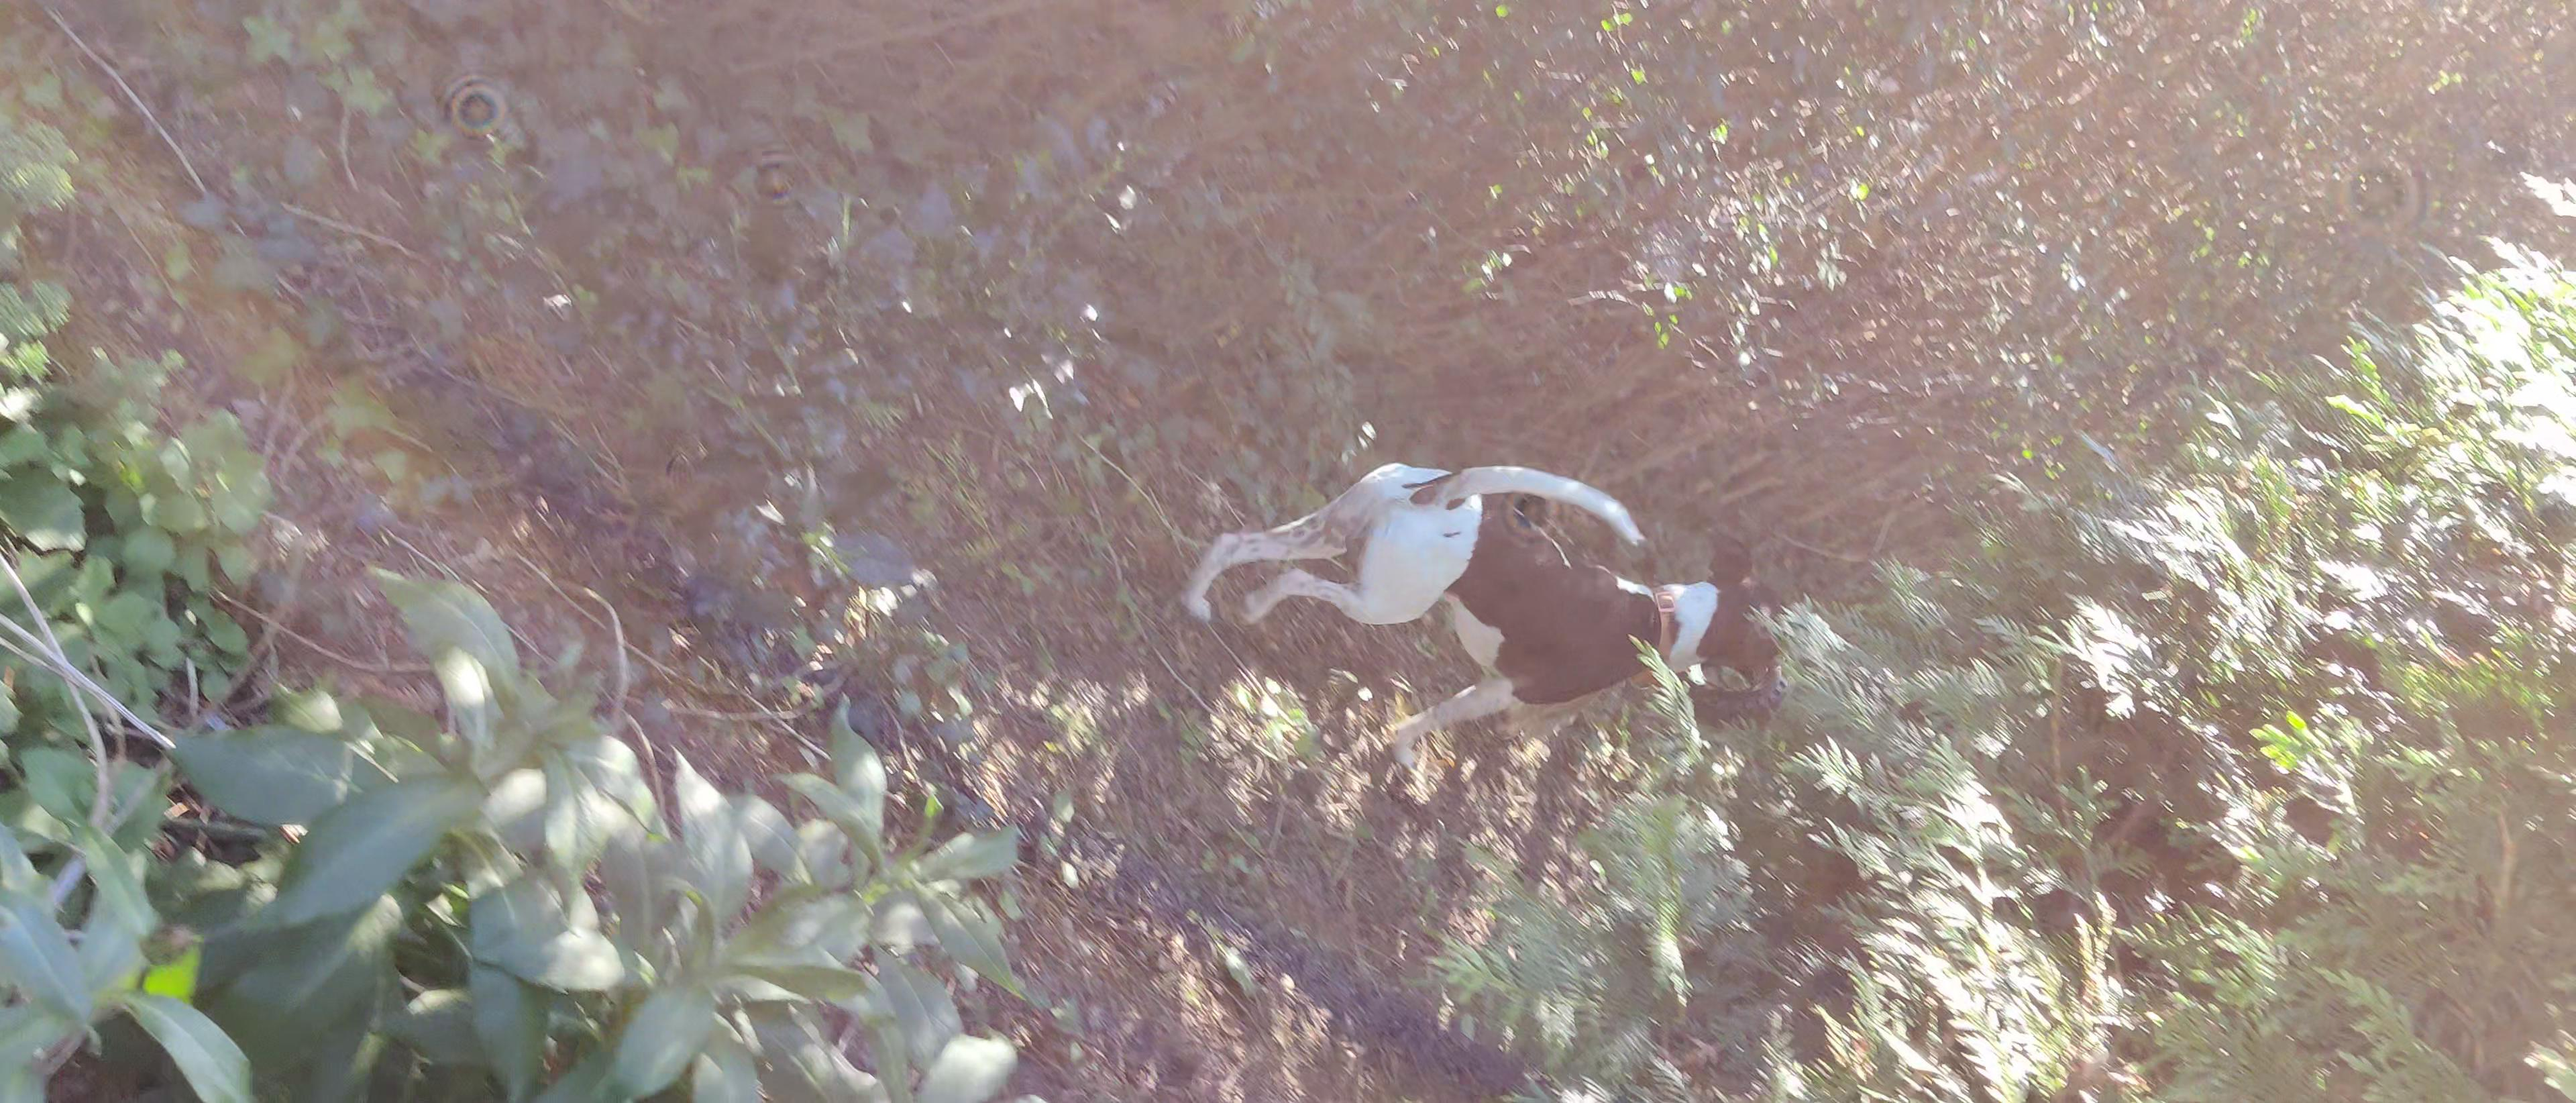Dog: (1168, 457, 1797, 771)
